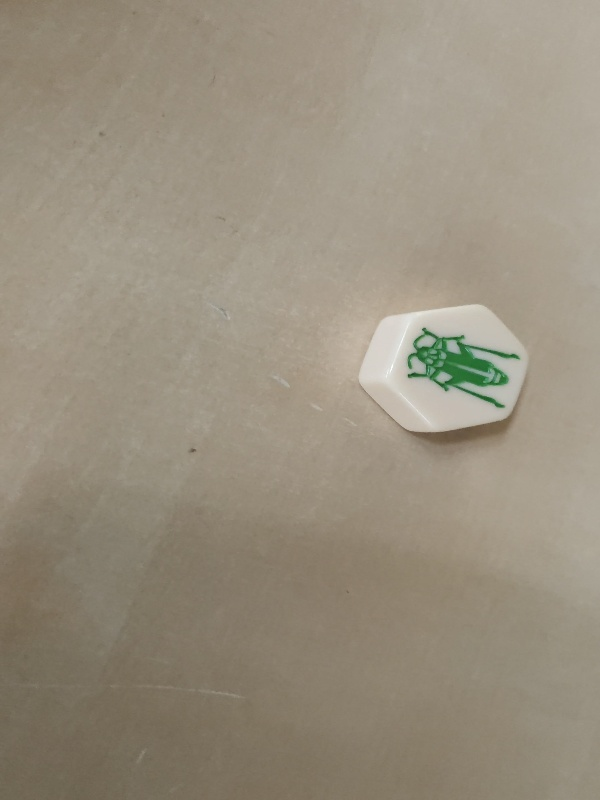white_grasshopper: (362, 297, 529, 438)
